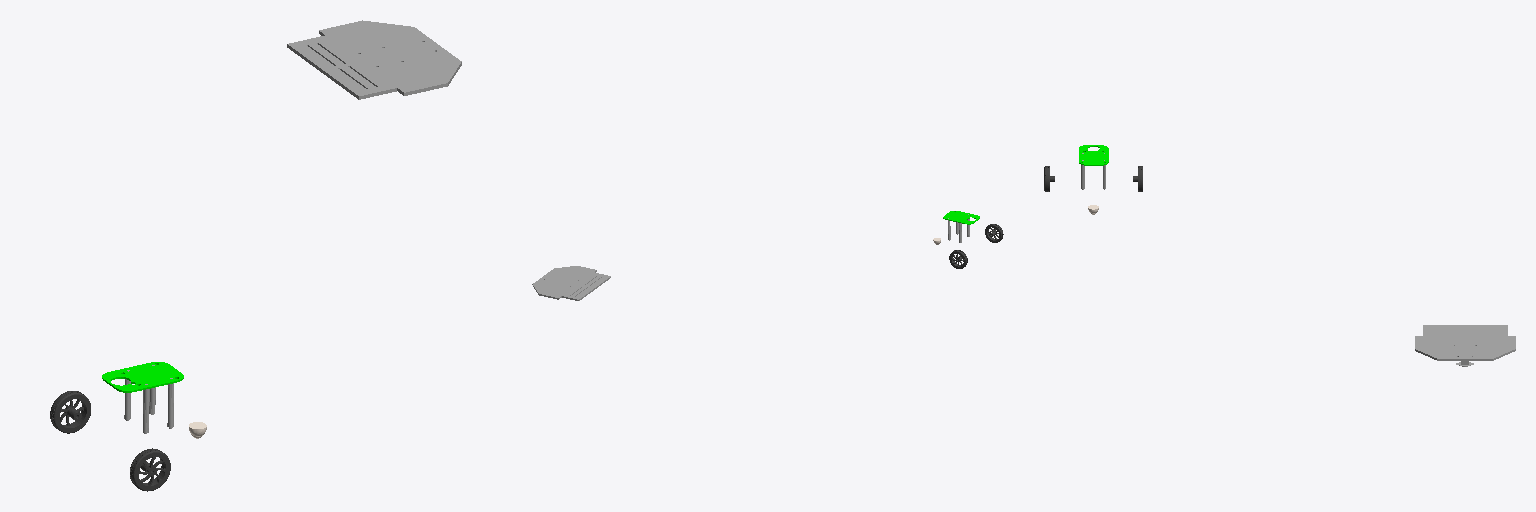
robot.urdf — taleb_bot:
<?xml version="1.0" encoding="utf-8"?>

<robot
  name="taleb_bot">
  
  
  <!-- Base link -->
  
  <link
    name="base_link">
    <visual>
      <origin xyz="1 1 0" rpy="0 0 0" />
      <geometry>
        <mesh
          filename="package://transforms/meshes/base_link.STL" />
      </geometry>
      <material
        name="">
        <color
          rgba="0.69804 0.69804 0.69804 1" />
      </material>
    </visual>
    <collision>
      <origin
        xyz="0 0 0"
        rpy="0 0 0" />
      <geometry>
        <mesh
          filename="package://transforms/meshes/base_link.STL" />
      </geometry>
    </collision>
  </link>
  
  
  
  <!-- IMU link -->



<!-- 
 <link
    name="imu_link">
    <visual>
      <origin
        xyz="0 0 0"
        rpy="0 0 0" />
      <geometry>
        <mesh
          filename="package://transforms/meshes/base_link.STL" />
      </geometry>
      <material
        name="">
        <color
          rgba="0.69804 0.69804 0.69804 1" />
      </material>
    </visual>
    <collision>
      <origin
        xyz="0 0 0"
        rpy="0 0 0" />
      <geometry>
        <mesh
          filename="package://transforms/meshes/base_link.STL" />
      </geometry>
    </collision>
  </link>
  
  
  <joint
    name="imu_joint"
    type="fixed">
    <origin
      xyz="0 0 0"
      rpy="0 0 0" />
    <parent
      link="base_link" />
    <child
      link="imu_link" />
    <axis
      xyz="0 0 0" />
  </joint> -->
  


   <!-- right wheel link -->
  
  
  <link
    name="link_right_wheel">
    <visual>
      <origin
        xyz="0 0 0"
        rpy="0 0 0" />
      <geometry>
        <mesh
          filename="package://transforms/meshes/link_right_wheel.STL" />
      </geometry>
      <material
        name="">
        <color
          rgba="0.298039215686275 0.298039215686275 0.298039215686275 1" />
      </material>
    </visual>
    <collision>
      <origin
        xyz="0 0 0"
        rpy="0 0 0" />
      <geometry>
        <mesh
          filename="package://transforms/meshes/link_right_wheel.STL" />
      </geometry>
    </collision>
  </link>
  
  
  
   <!-- right wheel joint -->
  
  
  <joint
    name="joint_right_wheel"
    type="continuous">
    <origin
      xyz="0 0 0"
      rpy="0 0 0" />
    <parent
      link="base_link" />
    <child
      link="link_right_wheel" />
    <axis
      xyz="0 1 0" />
    <limit
      effort="1.3729"
      velocity="34.548" />
  </joint>
  
  
   <!-- left wheel link -->
  
  
  <link name="link_left_wheel">

    <visual>
      <origin
        xyz="0 0 0"
        rpy="0 0 0" />
      <geometry>
        <mesh
          filename="package://transforms/meshes/link_left_wheel.STL" />
      </geometry>
      <material
        name="">
        <color
          rgba="0.29804 0.29804 0.29804 1" />
      </material>
    </visual>
    <collision>
      <origin
        xyz="0 0 0"
        rpy="0 0 0" />
      <geometry>
        <mesh
          filename="package://transforms/meshes/link_left_wheel.STL" />
      </geometry>
    </collision>
  </link>
  
  
   <!-- left wheel joint-->
  
  
  <joint
    name="joint_left_wheel"
    type="continuous">
    <origin
      xyz="-0.00042514 0.23544 0"
      rpy="0 0.55241 3.1416" />
    <parent
      link="base_link" />
    <child
      link="link_left_wheel" />
    <axis
      xyz="0 -1 0" />
    <limit
      effort="1.3729"
      velocity="34.548" />
  </joint>
  
  
   <!-- caster wheel link -->
  
  
  <link
    name="caster_wheel_link">
   
    <visual>
      <origin
        xyz="0 0 0"
        rpy="0 0 0" />
      <geometry>
        <mesh
          filename="package://transforms/meshes/caster_wheel_link.STL" />
      </geometry>
      <material
        name="">
        <color
          rgba="1 0.94902 0.89804 1" />
      </material>
    </visual>
    <collision>
      <origin
        xyz="0 0 0"
        rpy="0 0 0" />
      <geometry>
        <mesh
          filename="package://transforms/meshes/caster_wheel_link.STL" />
      </geometry>
    </collision>
  </link>
  
   <!-- caster wheel joint -->
  
  
  <joint
    name="caster_wheel_joint"
    type="fixed">
    <origin
      xyz="0.15851 0.11672 -0.0057785"
      rpy="-0.016648 0.0072064 -1.1623" />
    <parent
      link="base_link" />
    <child
      link="caster_wheel_link" />
    <axis
      xyz="0 0 0" />
  </joint>
  
   <!-- cylinders -->
  
  
  <link
    name="para_cyl_link">
   
    <visual>
      <origin
        xyz="0 0 0"
        rpy="0 0 0" />
      <geometry>
        <mesh
          filename="package://transforms/meshes/para_cyl_link.STL" />
      </geometry>
      <material
        name="">
        <color
          rgba="0.69804 0.69804 0.69804 1" />
      </material>
    </visual>
    <collision>
      <origin
        xyz="0 0 0"
        rpy="0 0 0" />
      <geometry>
        <mesh
          filename="package://transforms/meshes/para_cyl_link.STL" />
      </geometry>
    </collision>
  </link>
  
  
 
   <!-- cylinders joint -->
  
  
  
  <joint
    name="para_cyl_joint"
    type="fixed">
    <origin
      xyz="0.048315 0.14665 0.056186"
      rpy="0 1.5527 3.1416" />
    <parent
      link="base_link" />
    <child
      link="para_cyl_link" />
    <axis
      xyz="0 0 0" />
  </joint>
  
  
   <!-- where the lidar is placed-->
  
  
  <link
    name="lidar_alm_link">
    <visual>
      <origin
        xyz="0 0 0"
        rpy="0 0 0" />
      <geometry>
        <mesh
          filename="package://transforms/meshes/lidar_alm_link.STL" />
      </geometry>
      <material
        name="">
        <color
          rgba="0 1 0 1" />
      </material>
    </visual>
    <collision>
      <origin
        xyz="0 0 0"
        rpy="0 0 0" />
      <geometry>
        <mesh
          filename="package://transforms/meshes/lidar_alm_link.STL" />
      </geometry>
    </collision>
  </link>
  
   <!-- The joint -->
  
  <joint
    name="lidar_alm_joint"
    type="fixed">
    <origin
      xyz="-0.04 0.029 0.03"
      rpy="0 0 1.5708" />
    <parent
      link="para_cyl_link" />
    <child
      link="lidar_alm_link" />
    <axis
      xyz="0 0 0" />
  </joint>
</robot>

--- Render facts (derived) ---
3 views of the same robot in one strip: view 1: azimuth 30°, elevation 25°; view 2: azimuth 150°, elevation 25°; view 3: azimuth 270°, elevation 25° (orthographic).
Model taleb_bot with 6 links and 5 joints (2 continuous, 3 fixed), rooted at base_link, posed all joints at 0.
Visible links, largest first — view 1: base_link, lidar_alm_link, link_right_wheel, link_left_wheel, para_cyl_link; view 2: base_link; view 3: base_link, lidar_alm_link.
Boxes of the visible links, x1,y1,x2,y2 form: base_link: (287, 20, 461, 99); lidar_alm_link: (102, 362, 183, 392); link_right_wheel: (130, 448, 170, 491); link_left_wheel: (50, 391, 90, 433); para_cyl_link: (124, 365, 173, 433); base_link: (532, 266, 610, 300); base_link: (1415, 325, 1515, 366); lidar_alm_link: (1079, 145, 1108, 165).
Size in the robot's own frame: 1.21 by 1.27 by 0.1347 metres.
6 mesh visuals loaded from 6 distinct referenced files (6 binary STL).
